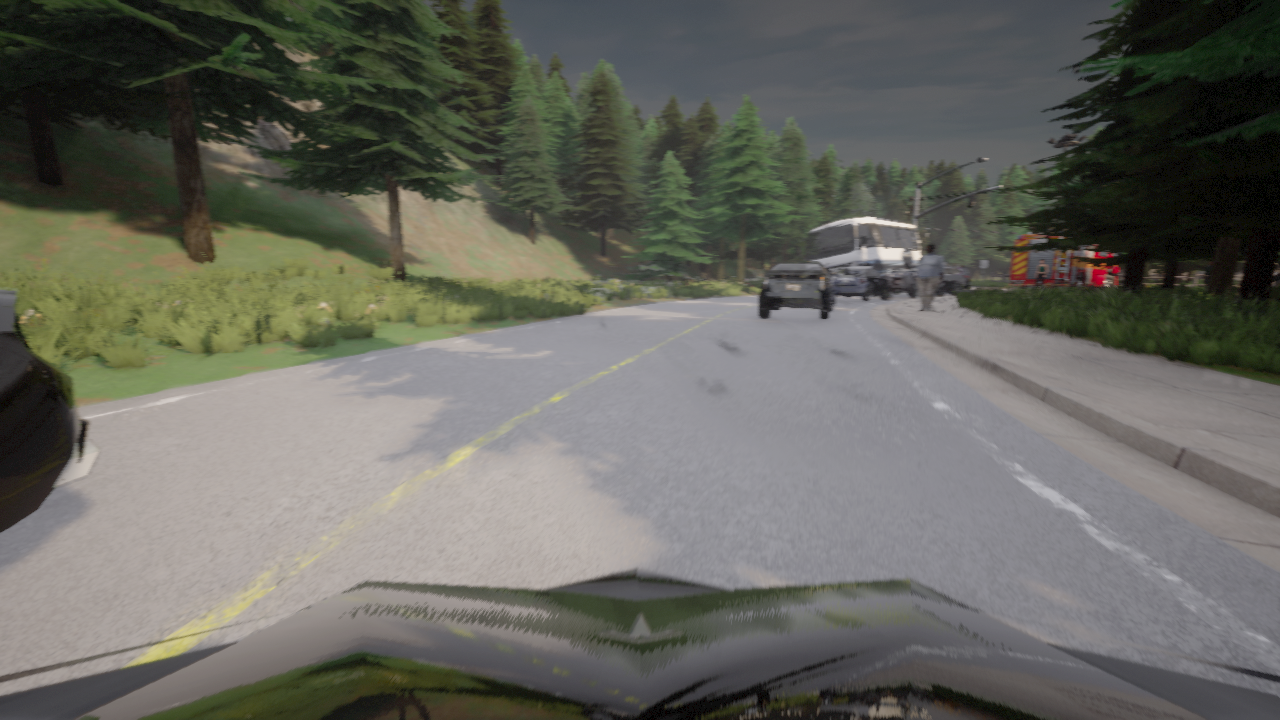cyclist: (0, 569, 1279, 719), (796, 217, 920, 277), (1009, 227, 1123, 289), (758, 262, 836, 319), (892, 265, 970, 294), (830, 267, 889, 301), (883, 270, 949, 296), (1272, 272, 1279, 287), (1275, 273, 1279, 274)
pedestrian: (915, 244, 943, 312), (1035, 259, 1047, 289), (1202, 261, 1212, 287)
